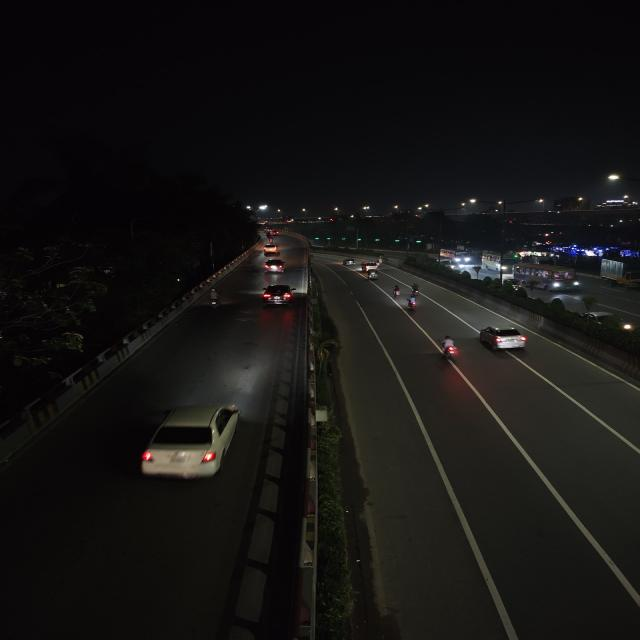bus: (514, 263, 582, 293), (483, 251, 517, 273), (438, 248, 475, 266)
car: (134, 400, 247, 489), (576, 308, 637, 336), (476, 324, 530, 355), (260, 283, 296, 306), (262, 258, 287, 276), (262, 243, 282, 256), (360, 262, 380, 272)
cng: (367, 270, 379, 279)
motorcycle: (436, 334, 462, 368), (203, 288, 226, 312), (404, 293, 421, 313), (391, 282, 404, 298), (342, 257, 354, 267)
truck: (599, 256, 640, 290)
